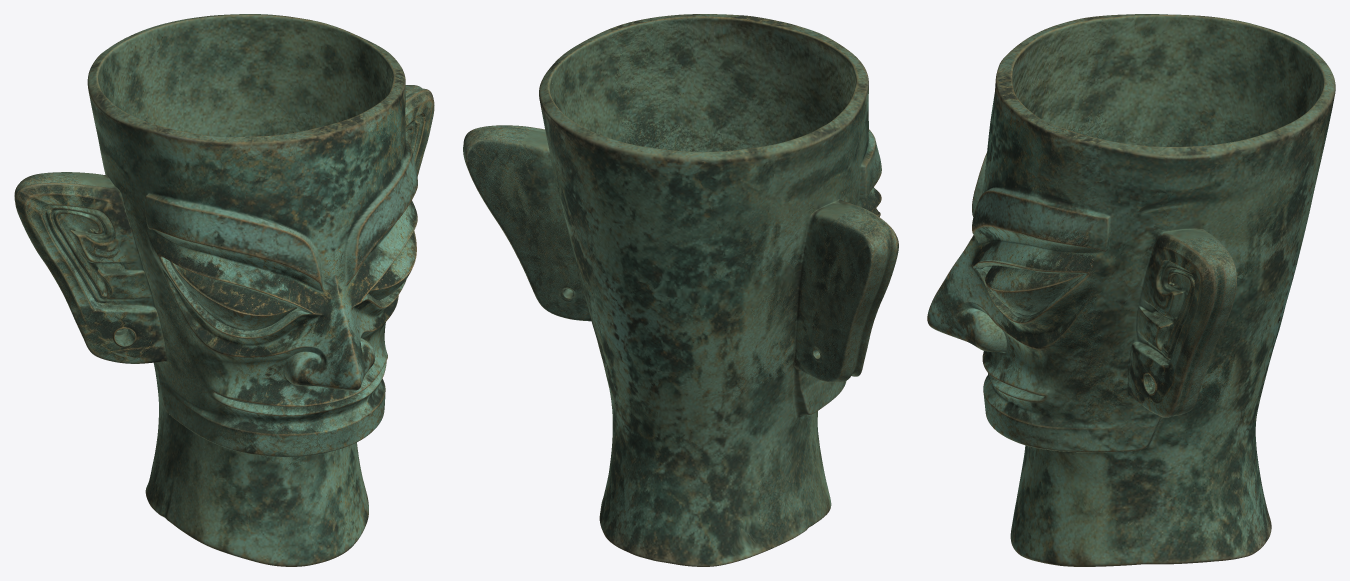
Rendered from bronze-head.glb.
The picture shows the model from 3 angles, left to right: view 1: azimuth 30°, elevation 25°; view 2: azimuth 150°, elevation 25°; view 3: azimuth 270°, elevation 25°; orthographic projection. The views are drawn at different scales.
Size of the model in its own units: 1.9 by 1.9 by 1.52.
Materials: 1 (1 with a texture image).
